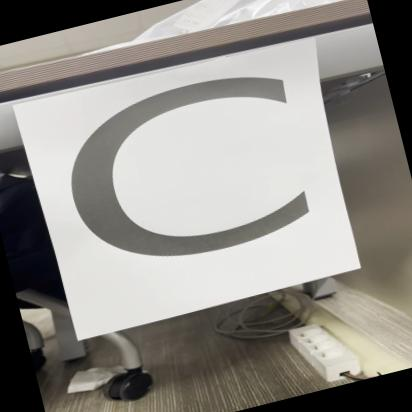seat: (17, 28, 366, 338)
